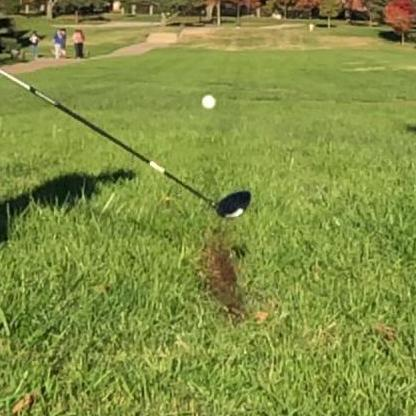golfball: (199, 90, 216, 109)
